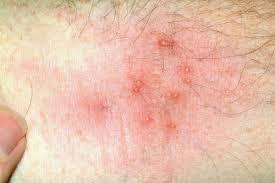Mites: (149, 29, 184, 56), (170, 65, 197, 100), (138, 111, 179, 132), (124, 70, 150, 101), (167, 87, 182, 105)
